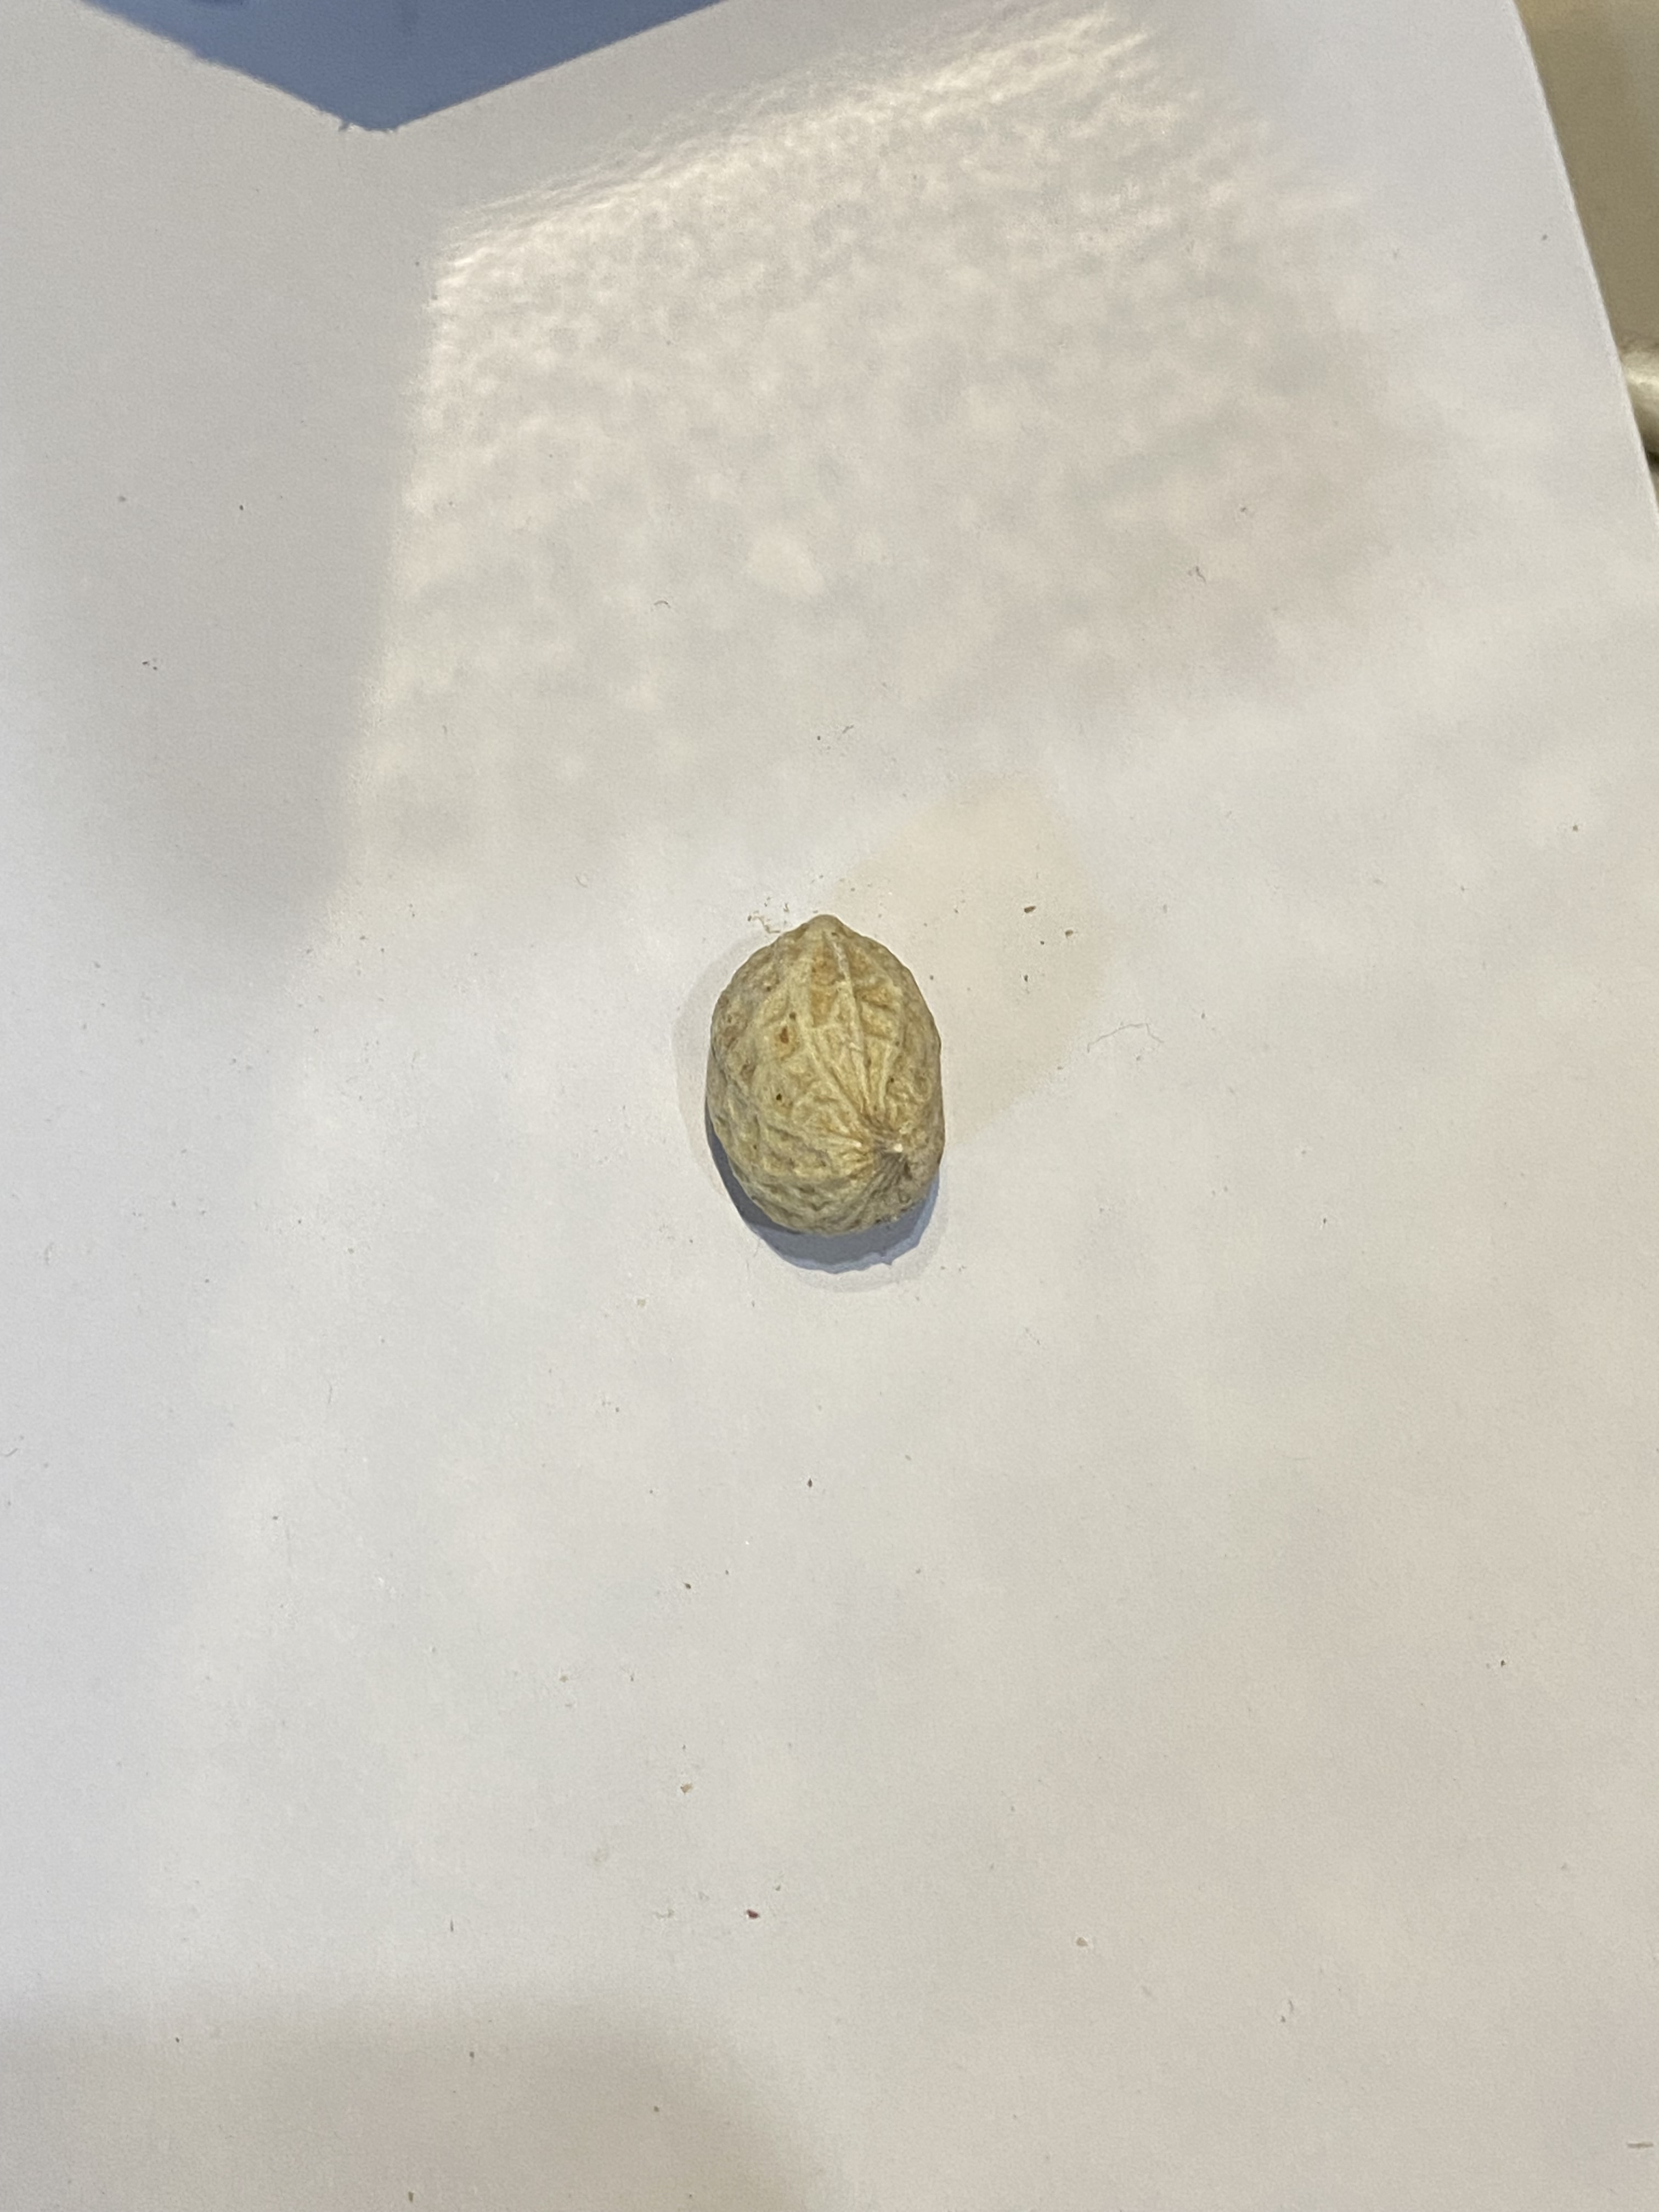kacang1: (676, 883, 951, 1240)
